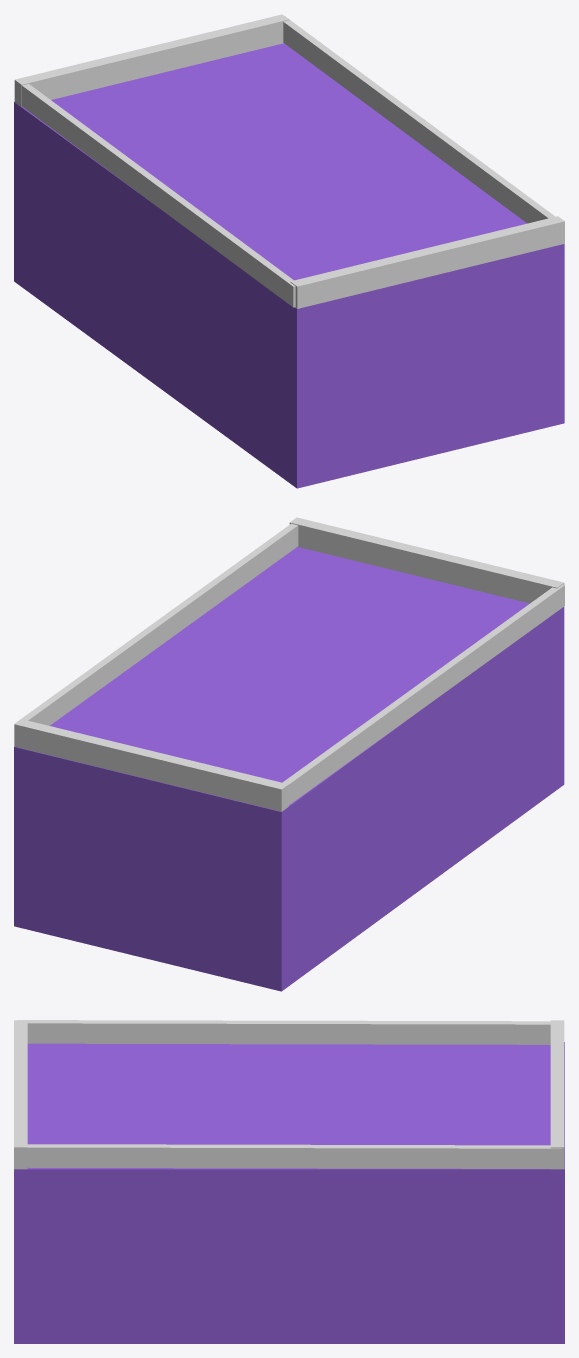
File: mesa.fbx
3 views of the same model, one above another, from view 1: azimuth 30°, elevation 25°; view 2: azimuth 150°, elevation 25°; view 3: azimuth 270°, elevation 25° (orthographic). The views are drawn at different scales.
Parts seen in each view (by area): view 1: Cube, Cube.003, Cube.004, Cube.002, Cube.001; view 2: Cube, Cube.002, Cube.004, Cube.003, Cube.001; view 3: Cube, Cube.001, Cube.004, Cube.003, Cube.002.
Boxes of the visible parts, x1,y1,x2,y2 form: Cube: (14, 43, 564, 488); Cube.003: (290, 216, 564, 308); Cube.004: (22, 84, 295, 307); Cube.002: (14, 14, 289, 107); Cube.001: (283, 16, 554, 223); Cube: (14, 547, 564, 991); Cube.002: (14, 719, 288, 811); Cube.004: (282, 584, 564, 805); Cube.003: (289, 517, 564, 603); Cube.001: (14, 523, 298, 725); Cube: (14, 1042, 564, 1343); Cube.001: (27, 1144, 561, 1168); Cube.004: (17, 1020, 550, 1044); Cube.003: (14, 1020, 27, 1169); Cube.002: (550, 1020, 564, 1169).
Bounding box in the file's own units: 316 × 225 × 572.
